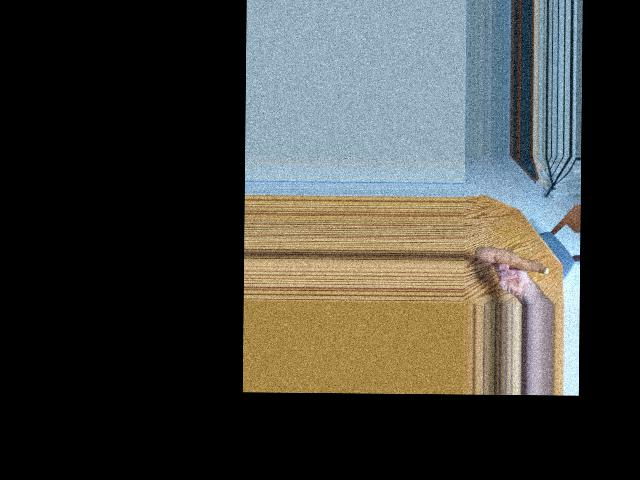sweet_potato: (476, 242, 548, 278)
